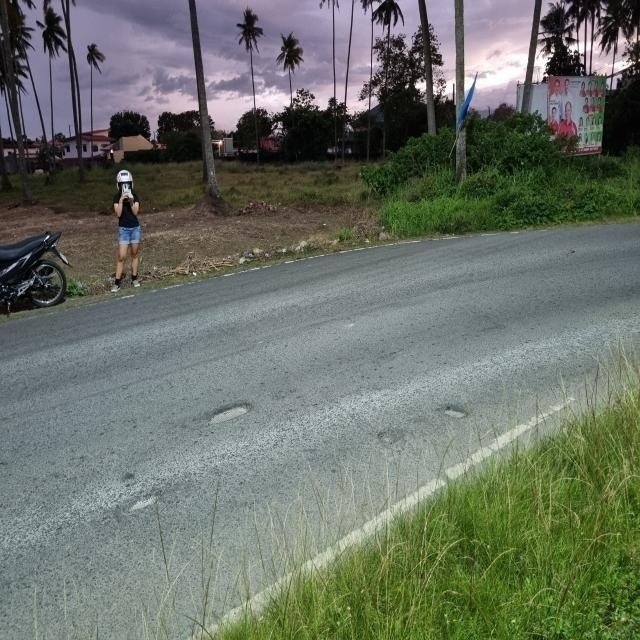pothole: (204, 383, 291, 438), (431, 386, 487, 438), (121, 486, 180, 524)
